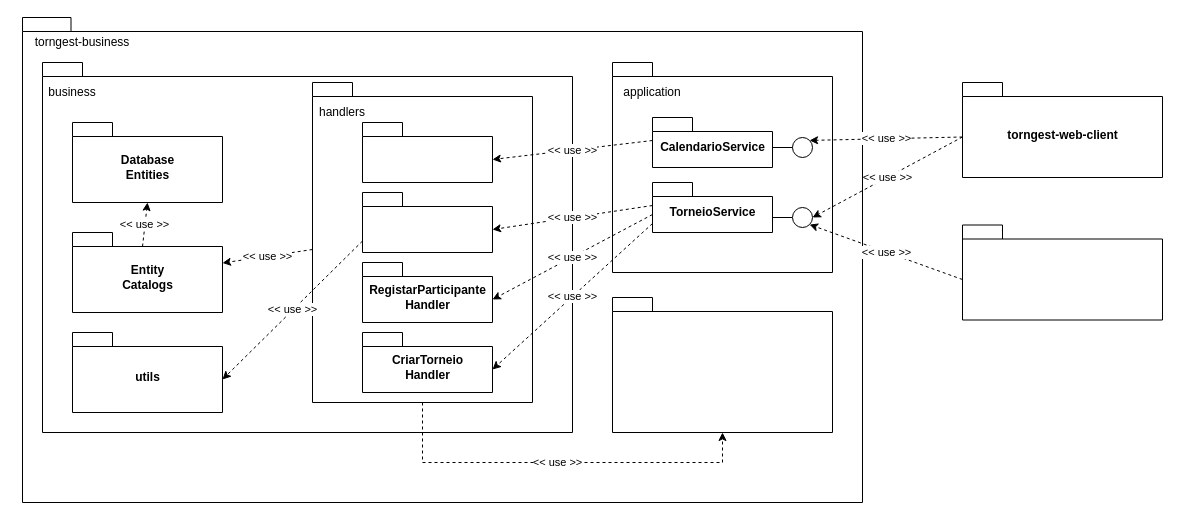
This 1180x520 diagram has some shape labels left out. The box of each missing label's shape, as (x1, y1, x2, y2) in pixels:
DTOs: (612, 296, 832, 432)
RegistarResultado Handler: (362, 192, 492, 252)
torngest-gui-client: (962, 224, 1162, 320)
VisualizarCalendario Handler: (362, 122, 492, 182)
